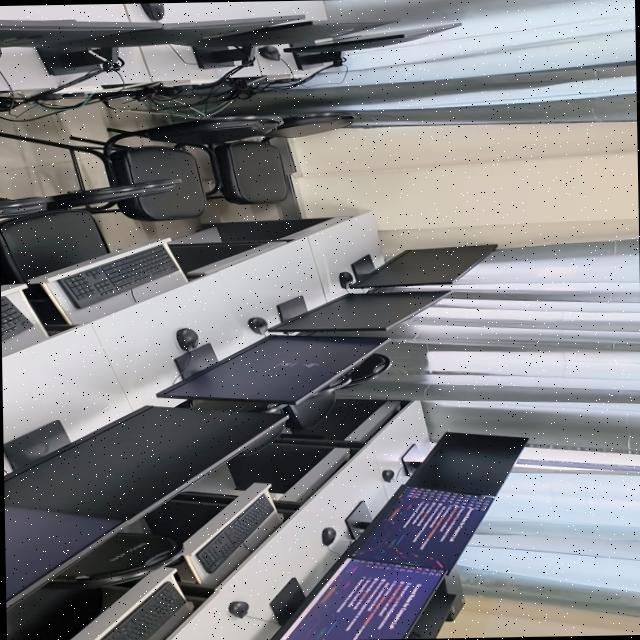Chair: (0, 116, 279, 221), (5, 532, 181, 640), (0, 179, 179, 283), (194, 113, 352, 204), (338, 353, 393, 390), (186, 399, 283, 416), (293, 390, 337, 427), (239, 420, 283, 455), (0, 196, 53, 218)
Cpu: (443, 566, 463, 621)
Keyboard: (55, 245, 176, 307), (195, 495, 272, 573), (99, 581, 184, 640), (0, 296, 32, 341)
Monitor: (2, 406, 281, 519), (156, 335, 387, 404), (36, 15, 304, 73), (269, 558, 442, 640), (345, 485, 492, 570), (3, 506, 117, 600), (190, 20, 391, 67), (282, 23, 460, 70), (400, 432, 526, 496), (266, 290, 449, 334), (347, 245, 496, 288), (0, 19, 161, 47), (404, 590, 454, 639)
Mouse: (175, 328, 198, 351), (139, 3, 163, 21), (227, 601, 248, 618), (247, 317, 267, 334), (257, 45, 279, 60), (338, 271, 355, 289), (321, 527, 336, 545), (381, 469, 394, 482)
